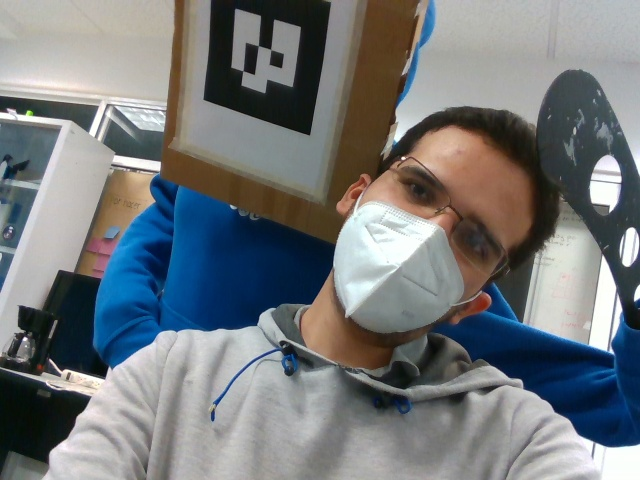ar3: (205, 1, 342, 137)
